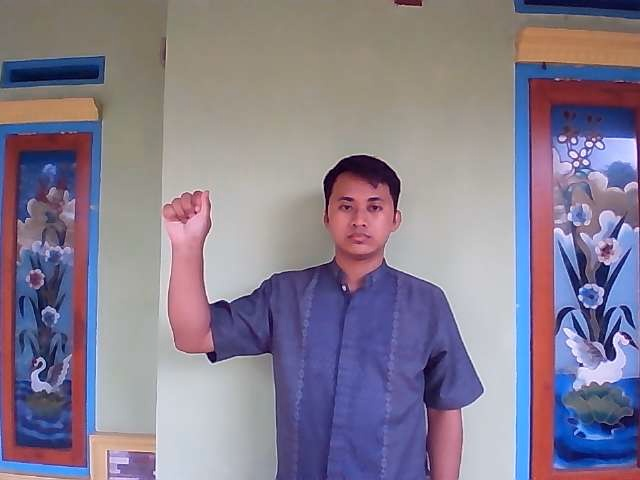A: (160, 187, 212, 240)
